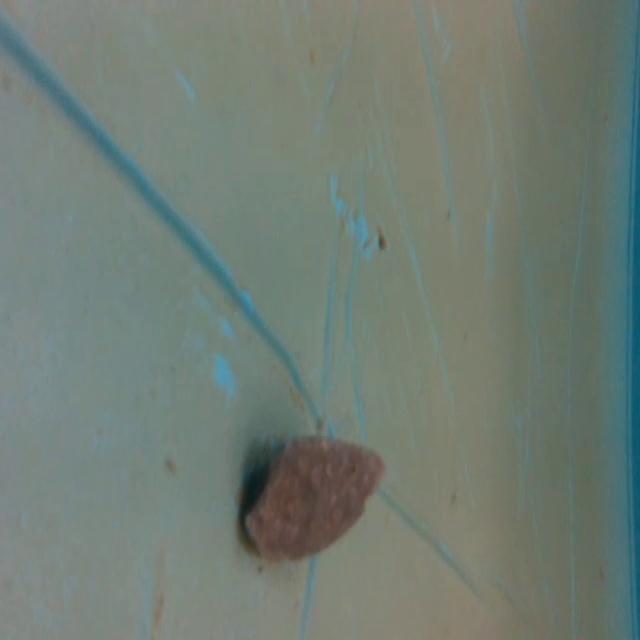rock: (240, 424, 392, 571)
